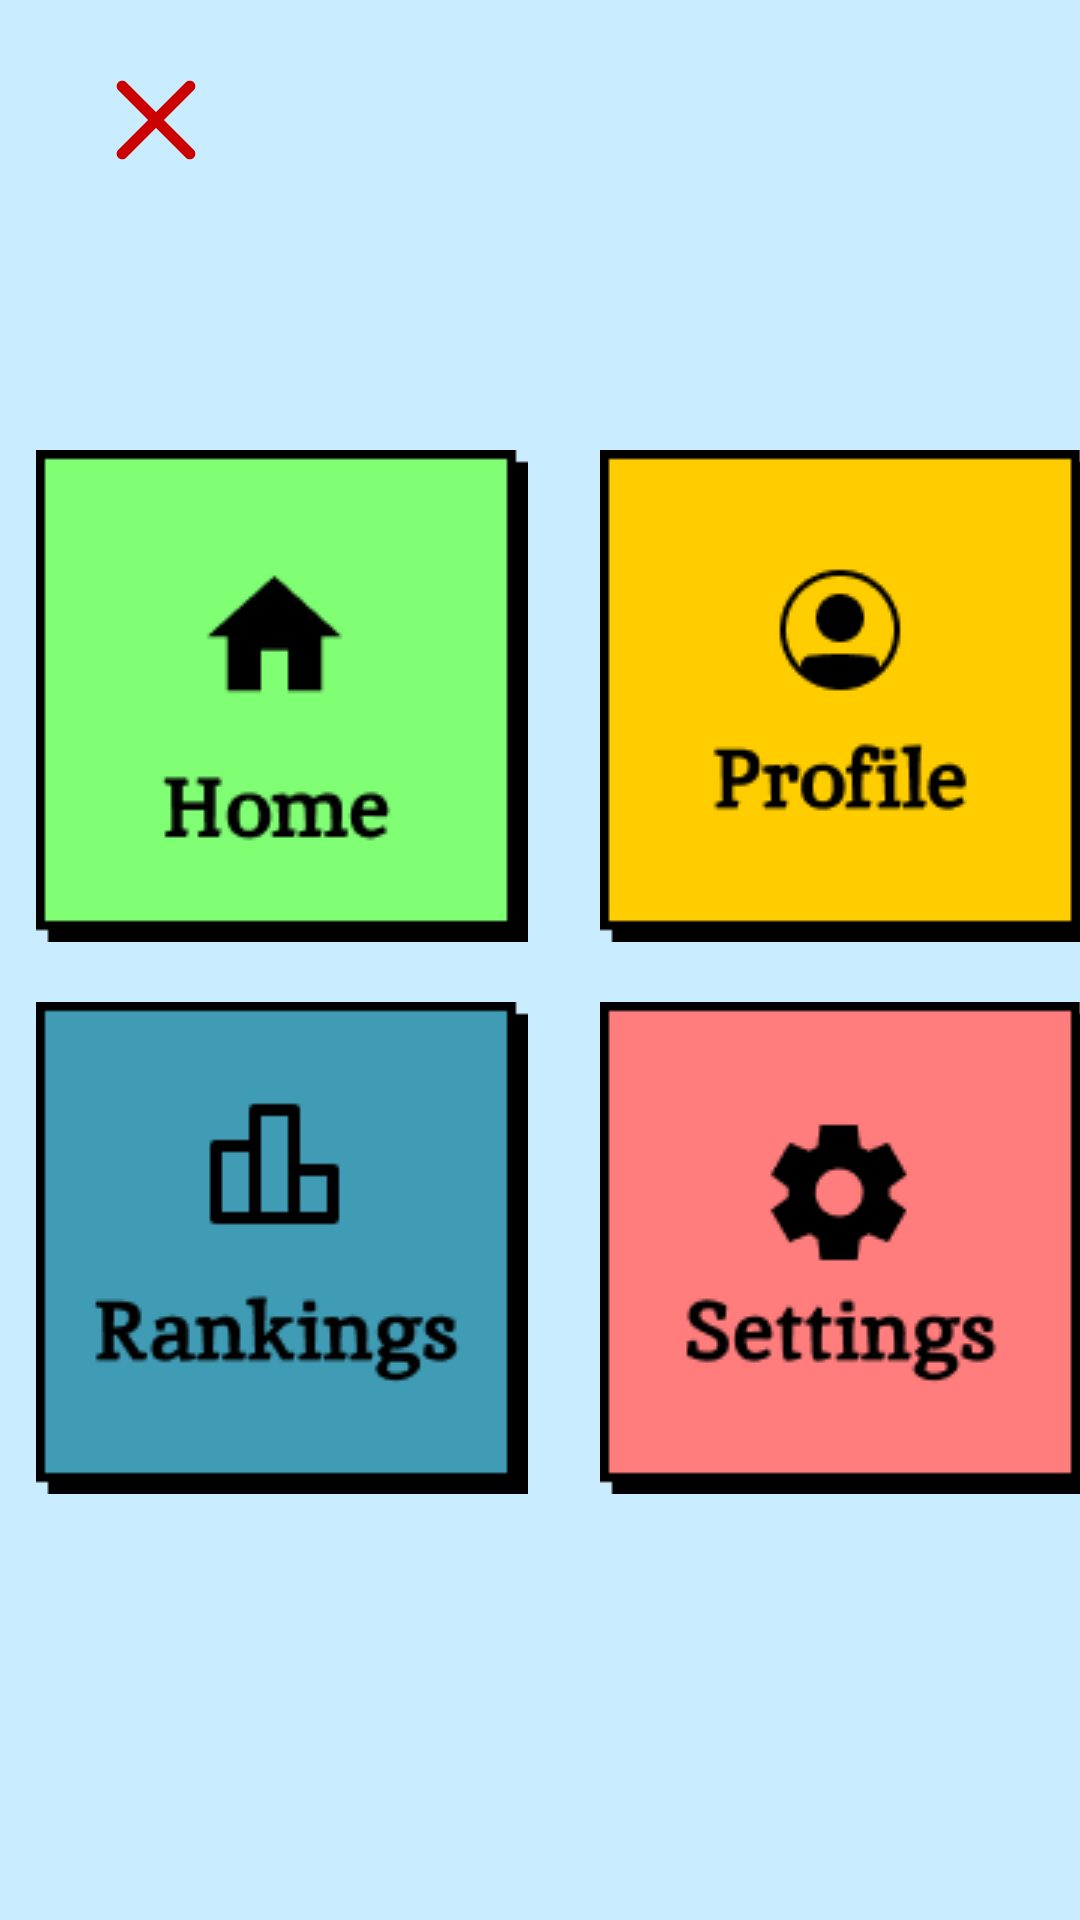

Where to tap for icons on this 1080×1920 app screen, as point (x, y):
exit button icon: point (156, 120)
